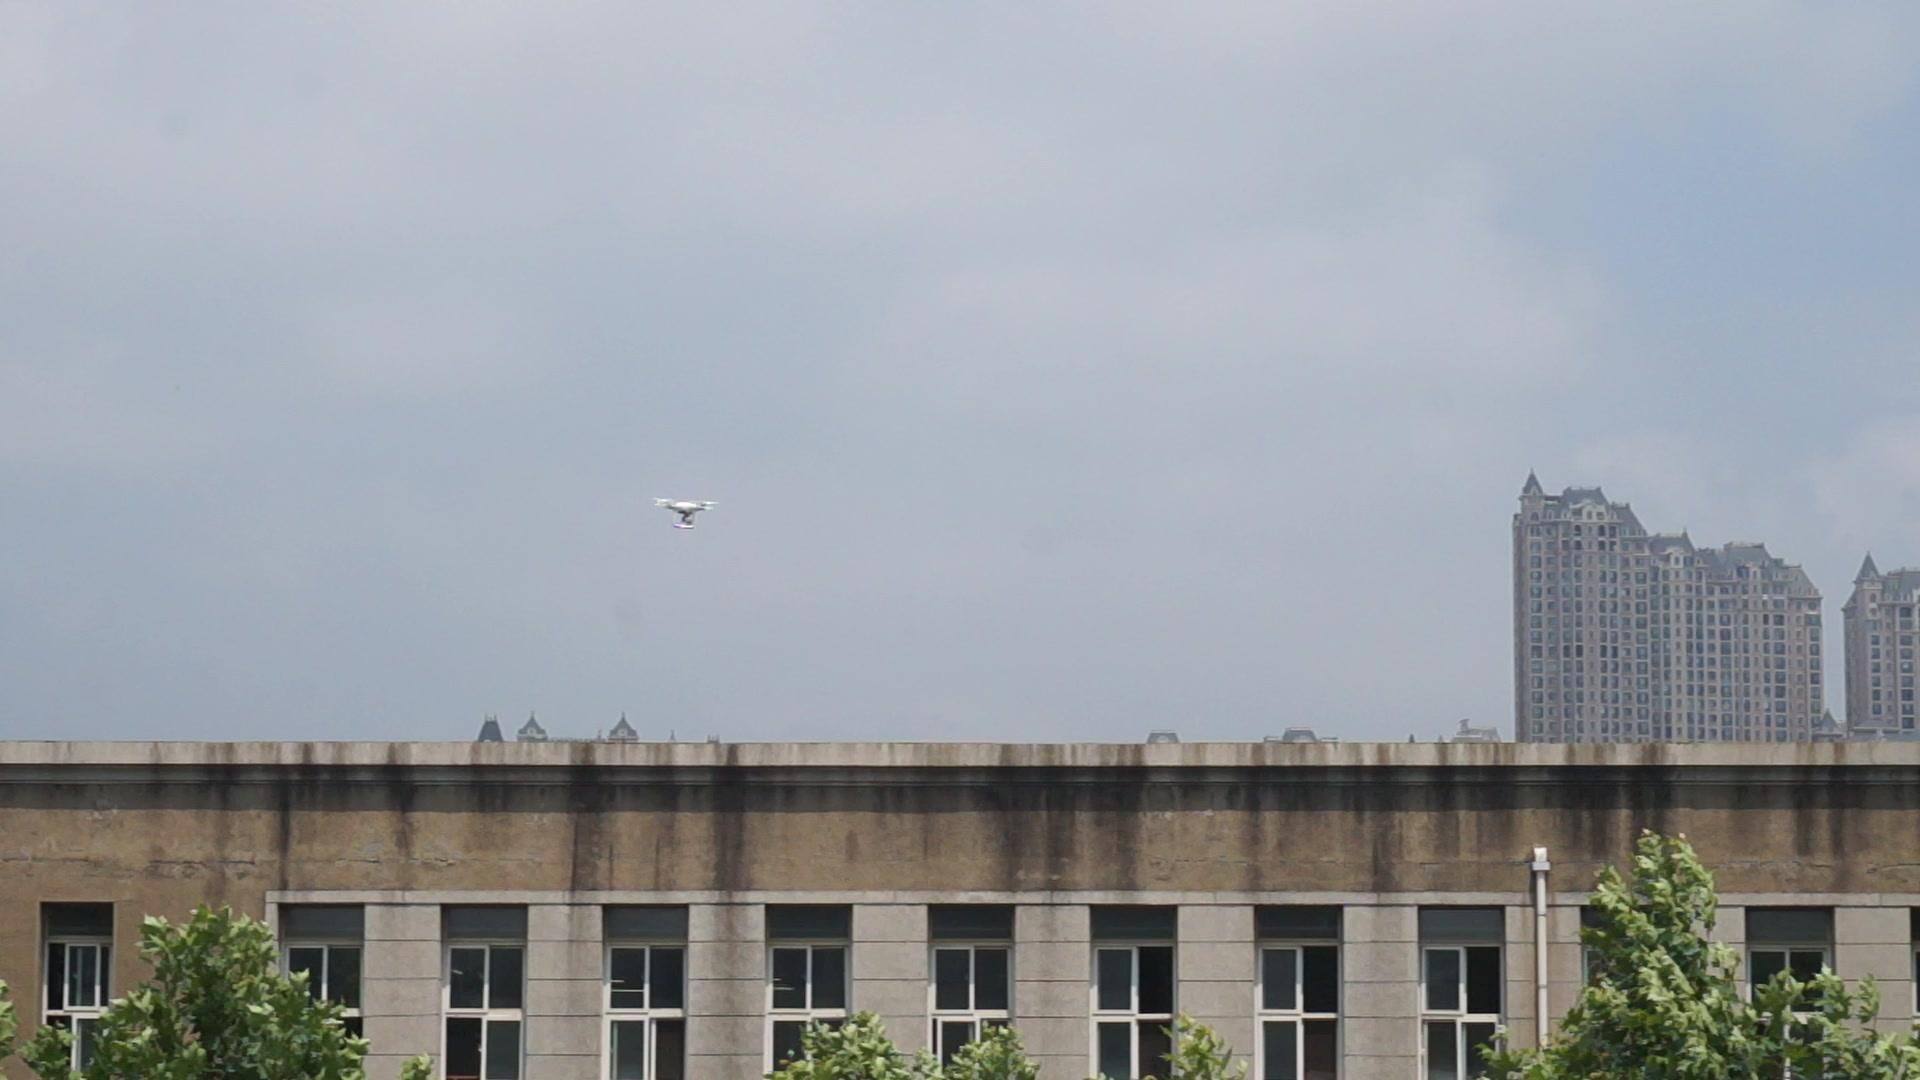UAV: (654, 498, 721, 530)
